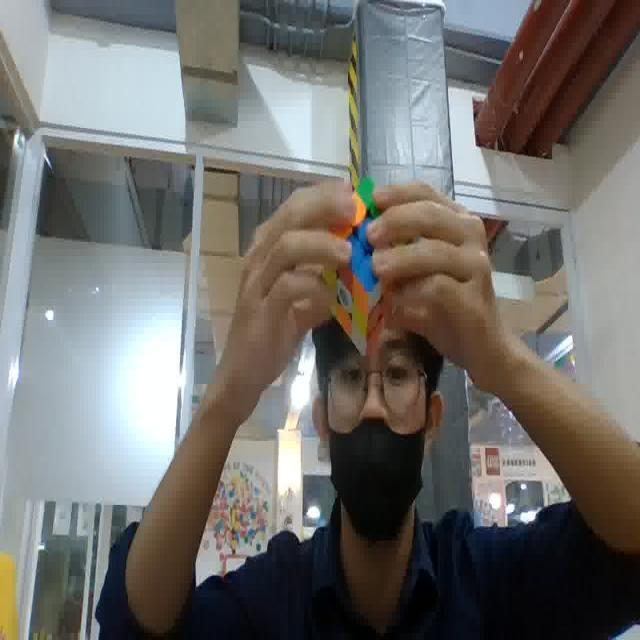Rub: (324, 172, 412, 352)
